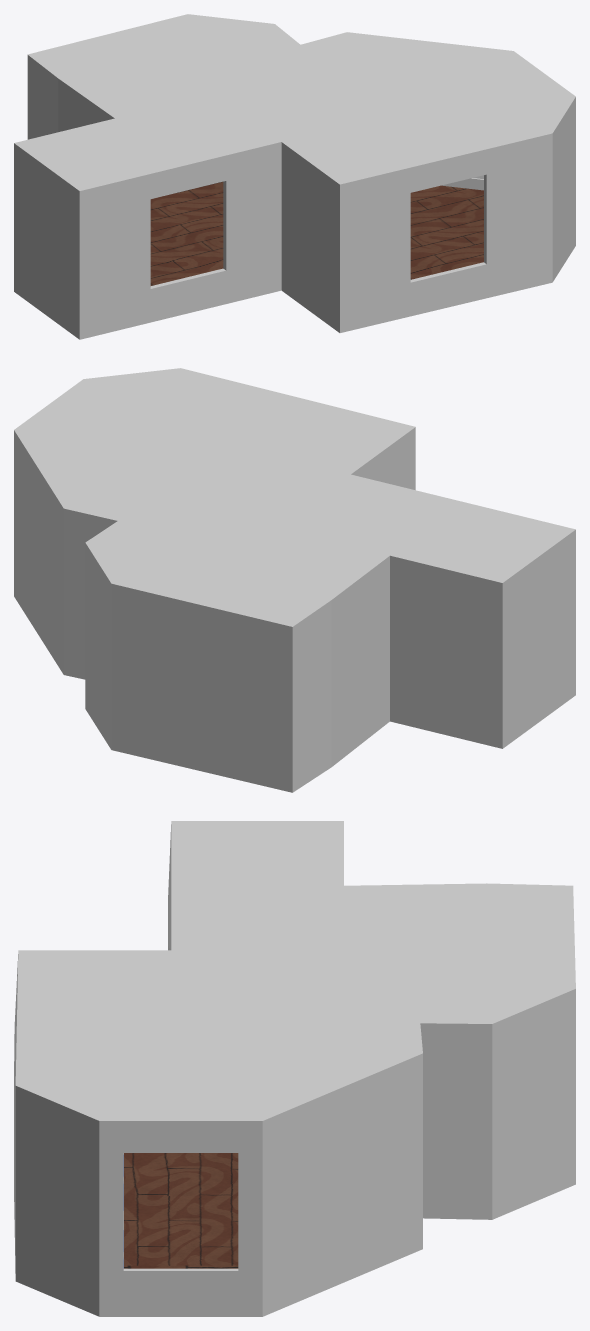
File: house_room.glb
The picture shows the model from 3 angles, top to bottom: view 1: azimuth 30°, elevation 25°; view 2: azimuth 150°, elevation 25°; view 3: azimuth 270°, elevation 25°; orthographic projection. The views are drawn at different scales.
Visible parts, largest first — view 1: ShadowCatcher, ground; view 2: ShadowCatcher; view 3: ShadowCatcher, ground.
Boxes of the visible parts, <box> form: ShadowCatcher: <box>14,14,575,339</box>; ground: <box>150,181,483,285</box>; ShadowCatcher: <box>14,368,575,792</box>; ShadowCatcher: <box>14,821,575,1316</box>; ground: <box>124,1153,238,1265</box>.
Size of the model in its own units: 9.29 by 2.84 by 7.35.
3 materials, 2 textured.
